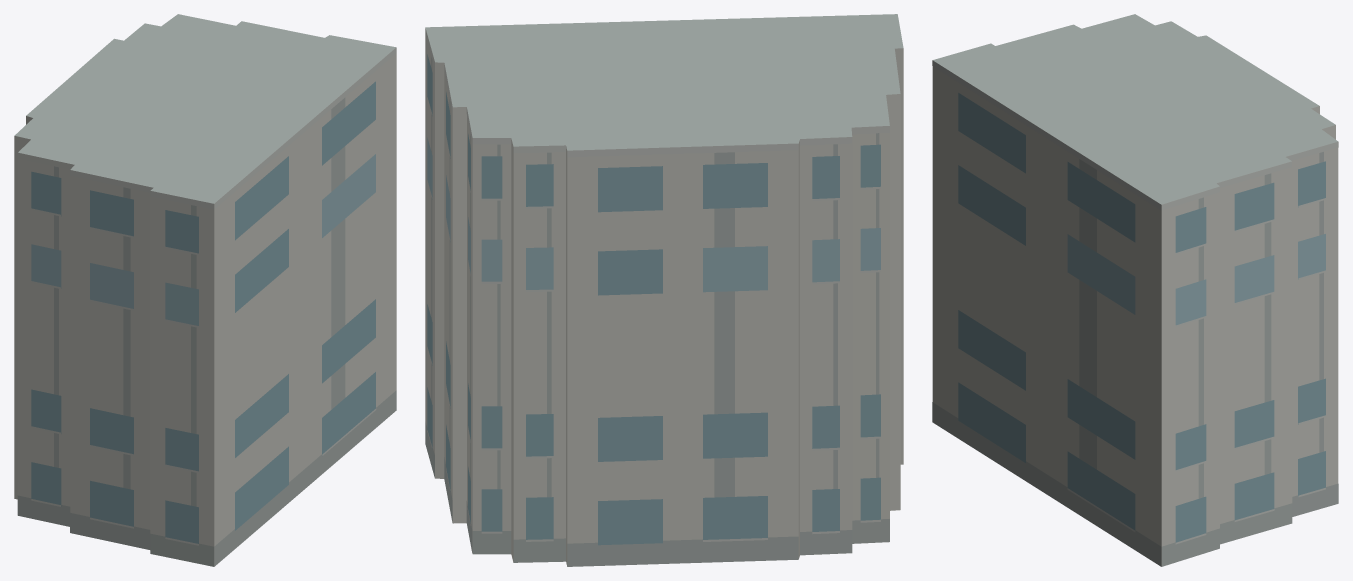
Rendered from survey-upis-32952301.glb.
3 renders of one model, left to right at view 1: azimuth 30°, elevation 25°; view 2: azimuth 150°, elevation 25°; view 3: azimuth 270°, elevation 25°, orthographic. The views are drawn at different scales.
Visible parts, largest first — view 1: survey-upis-32952301.tmp; view 2: survey-upis-32952301.tmp; view 3: survey-upis-32952301.tmp.
Boxes of the visible parts, x1,y1,x2,y2 form: survey-upis-32952301.tmp: (14,14,396,566); survey-upis-32952301.tmp: (425,14,903,566); survey-upis-32952301.tmp: (932,14,1338,566).
Bounding box in the file's own units: 16.85 × 14.91 × 15.16.
